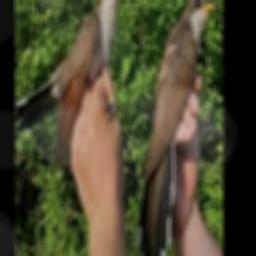Cuckoo: (138, 0, 215, 256), (15, 0, 128, 172)
